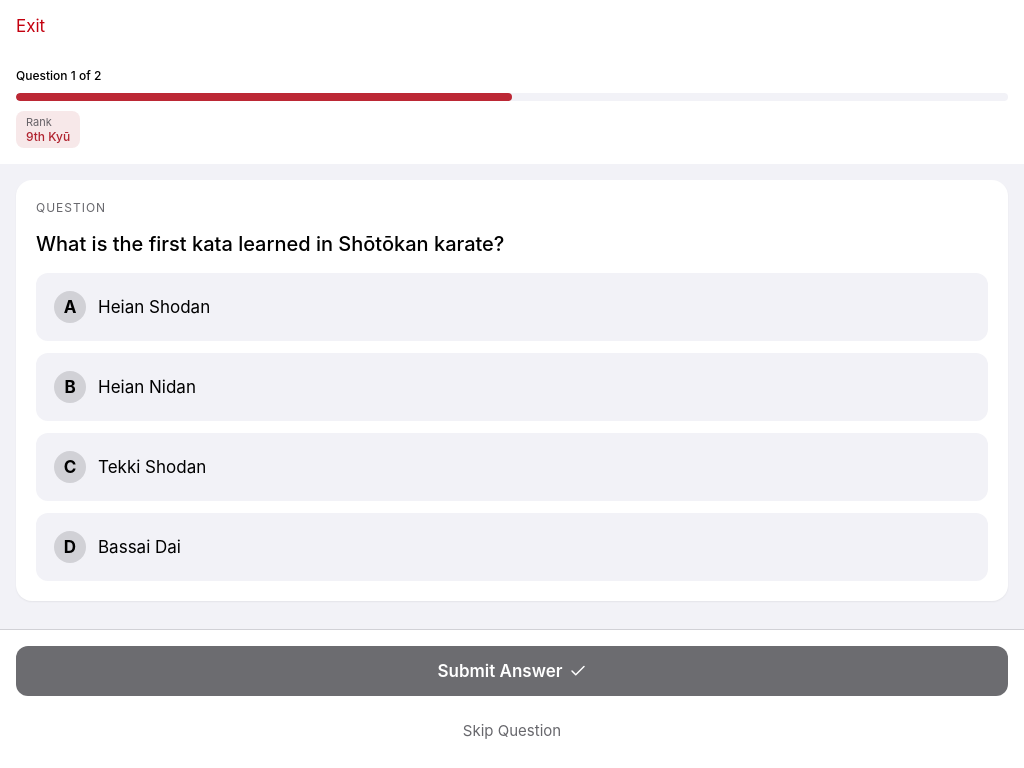
Test case: QuizPlayScreen › plays multiple-choice questions to the end
Expected: the text "Question 1 of 2" is shown, [16, 68, 101, 83]
Expected: the button "Submit Answer" is disabled, [16, 646, 1008, 696]
Click the button "A Heian Shodan" at (70, 307), box [36, 273, 988, 341]
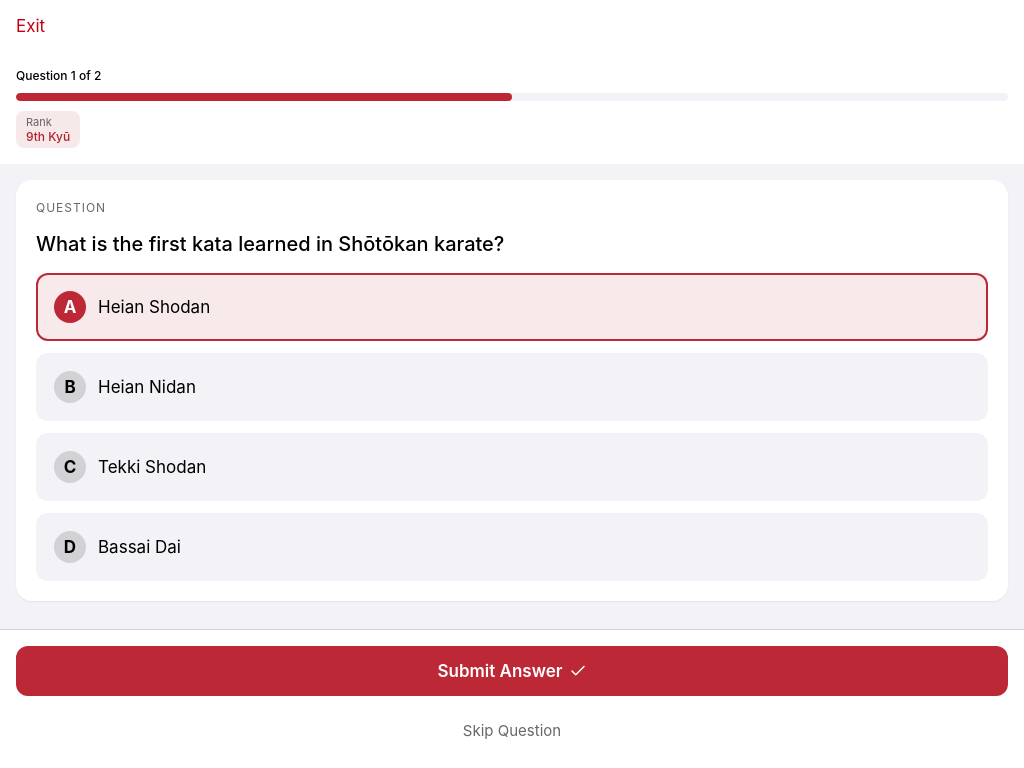
Expected: the button "Submit Answer" is enabled
Click the button "Submit Answer" at (512, 671), box [16, 646, 1008, 696]
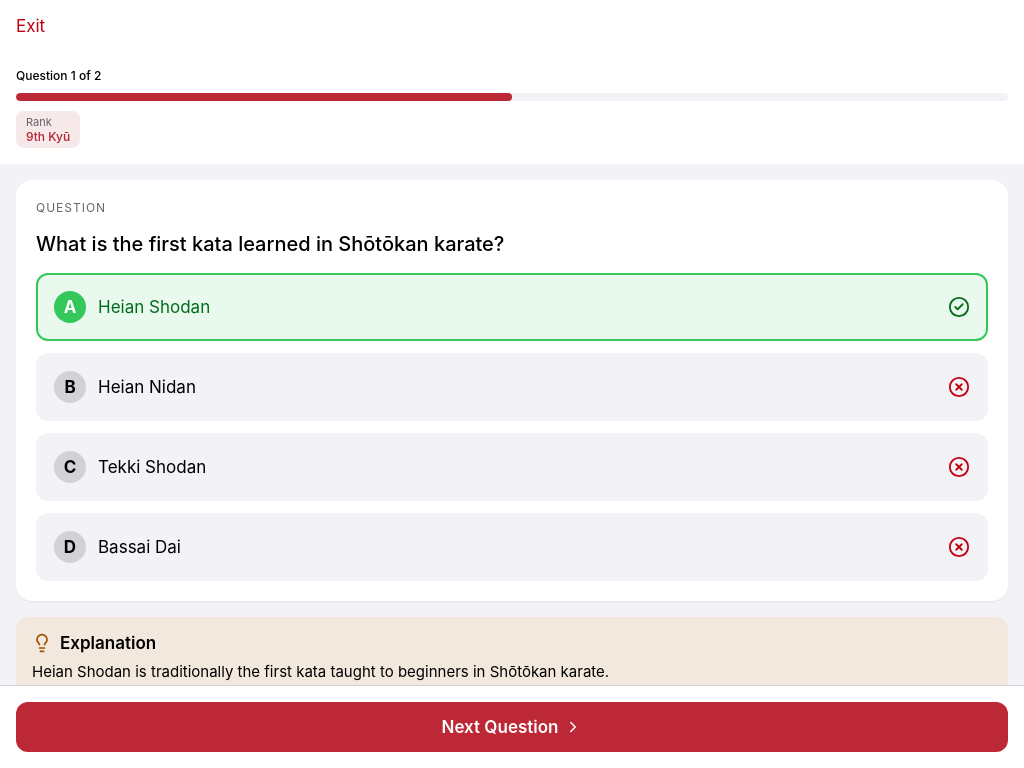
Expected: the heading "Explanation" is shown, [32, 633, 156, 653]
Click the button "Next Question" at (512, 727), box [16, 702, 1008, 752]
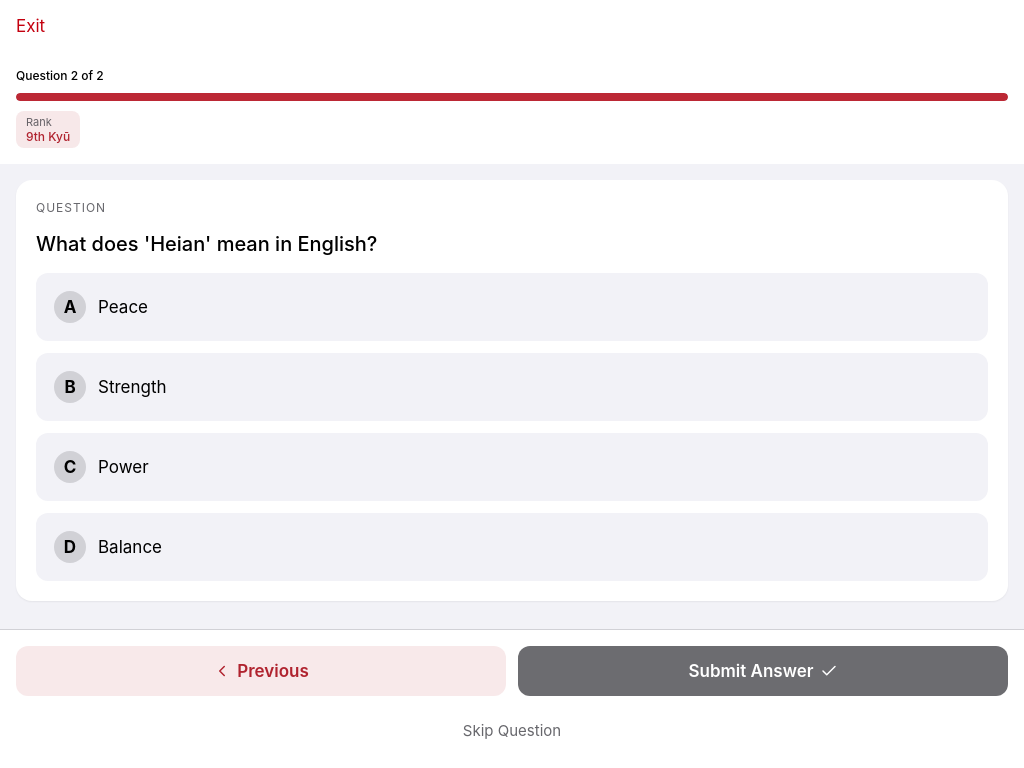
Expected: the text "Question 2 of 2" is shown, [16, 68, 104, 83]
Click the button "B Strength" at (70, 387), box [36, 353, 988, 421]
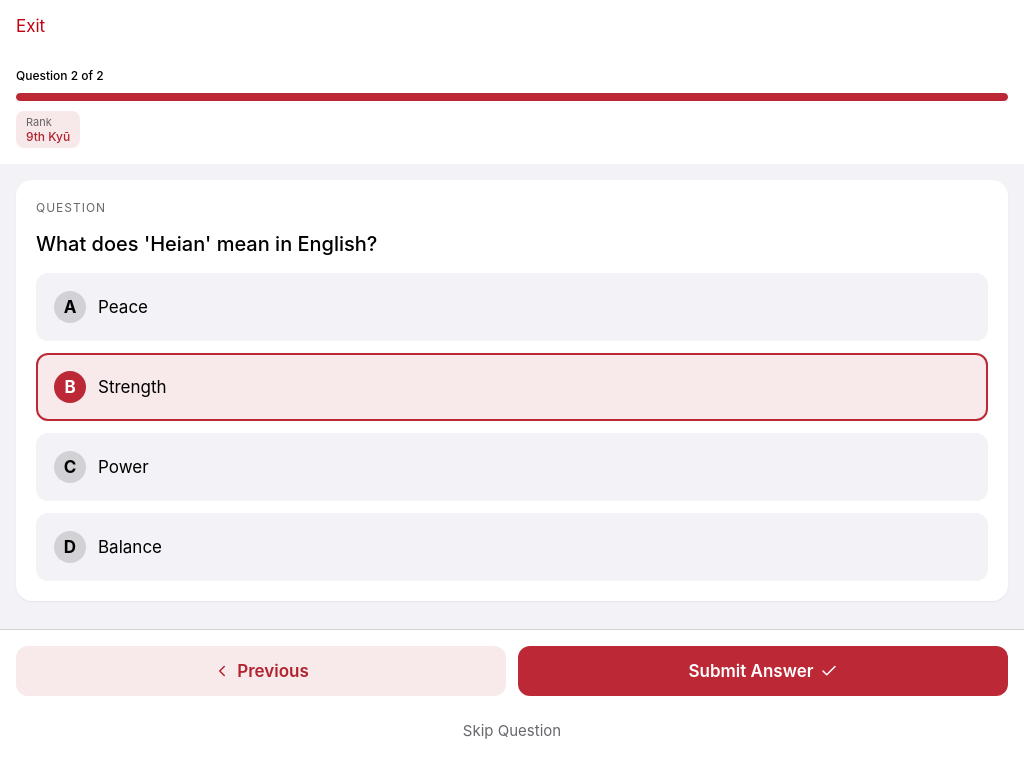
Click the button "Submit Answer" at (763, 671), box [518, 646, 1008, 696]
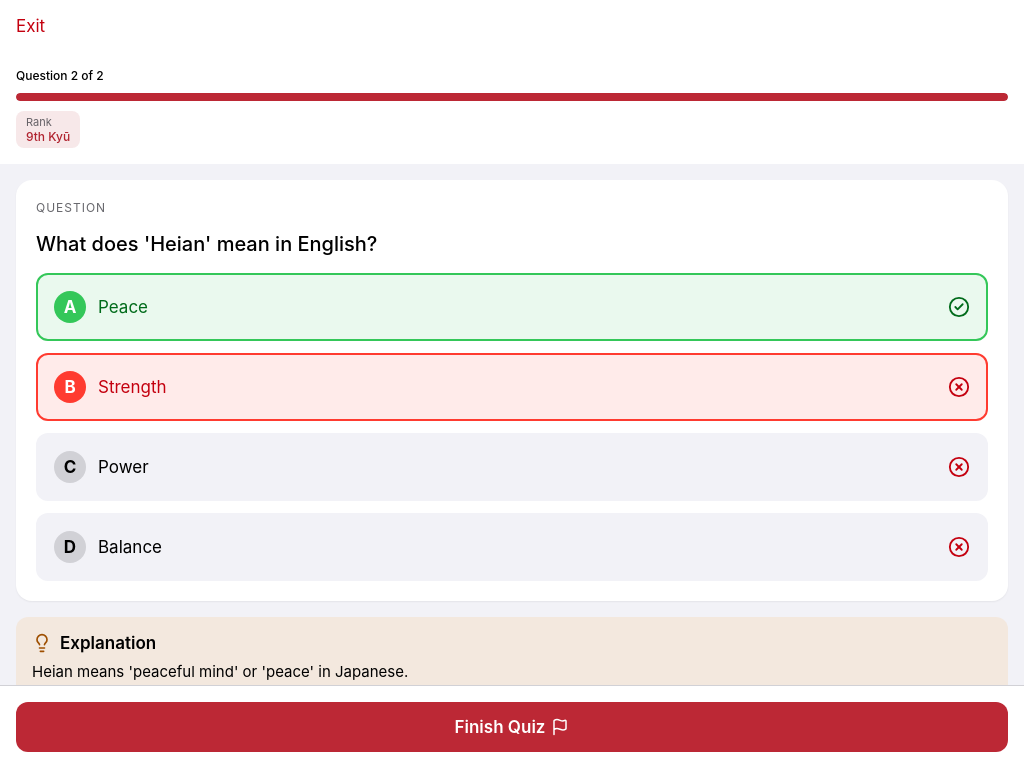
Click the button "Finish Quiz" at (512, 727), box [16, 702, 1008, 752]
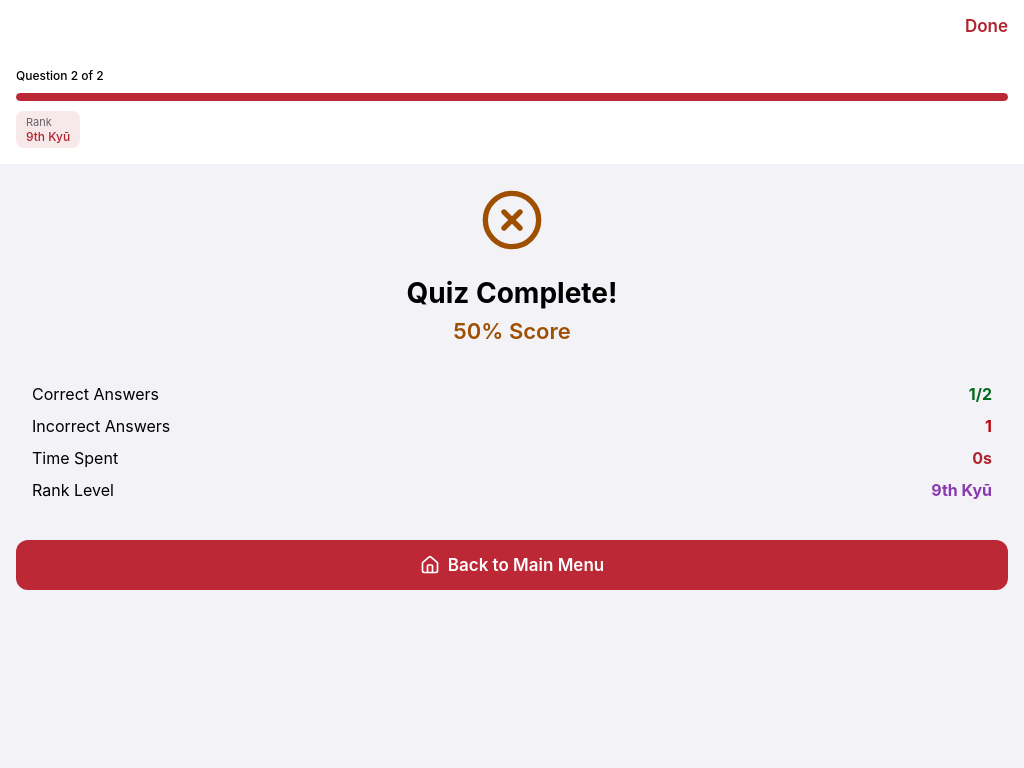
Expected: the heading "Quiz Complete!" is shown, [406, 276, 617, 310]
Expected: the text "50% Score" is shown, [453, 318, 571, 344]
Expected: the text "1/2" is shown, [969, 384, 992, 404]
